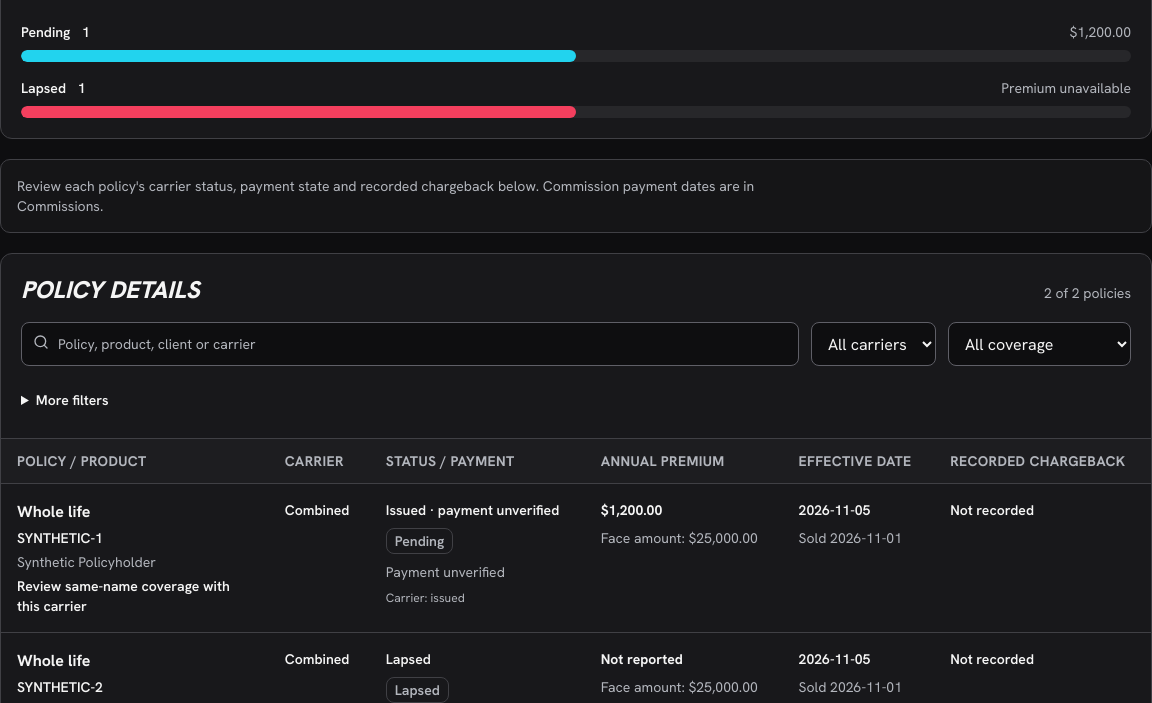
Test case: personal financial policy book › shows raw carrier and coverage facts without inventing payment or chargeback from status
(page scrolled)
Check: the text "issued" is shown, box [431,590,465,606]
Check: the text "Pending" is shown, box [386,528,453,554]
Type "SYNTHETIC-2" into the field named "Search your policies" at (410,344), box [21,322,799,366]
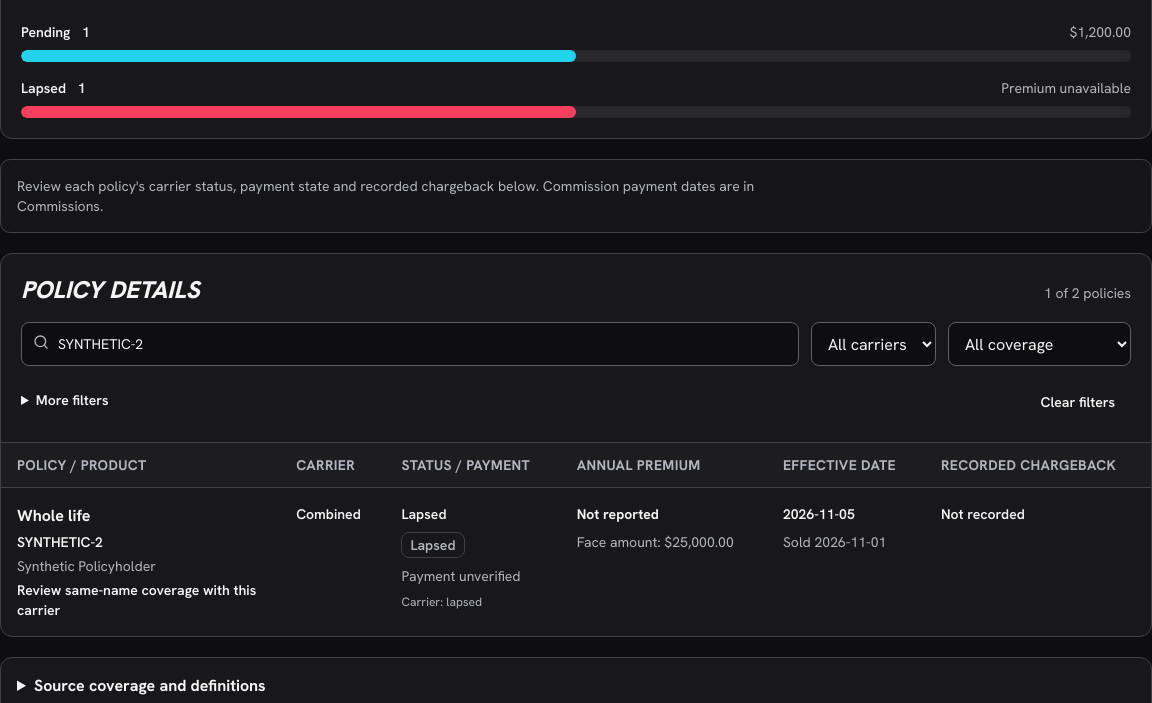
Check: the text "SYNTHETIC-1" is gone
Check: the text "1 of 2 policies" is shown, box [1044,283,1131,303]
